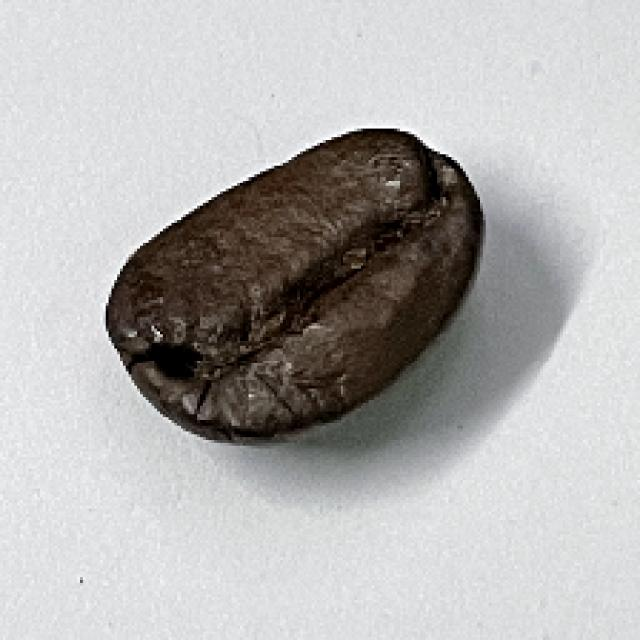bean: (99, 126, 484, 447)
